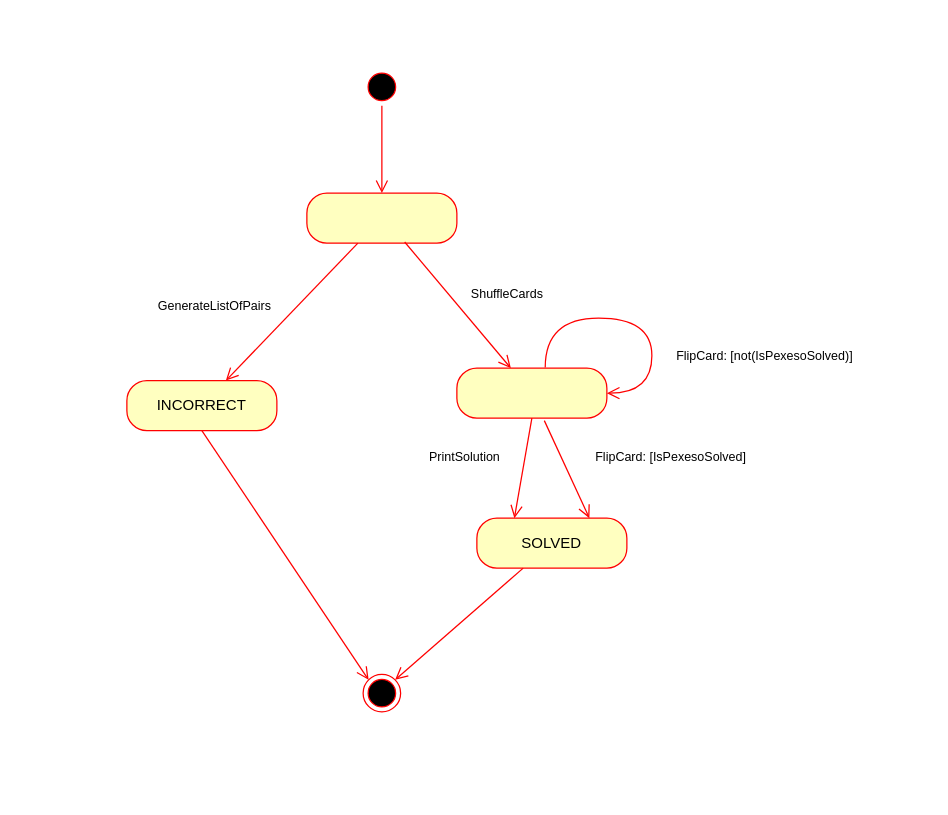
Image size: 948x815. Some labels were removed from this diagram. The box of each missing label's shape, as (x1, y1, x2, y2) in pixels:
INITIATING: (306, 192, 457, 243)
PLAYING: (456, 367, 607, 418)
